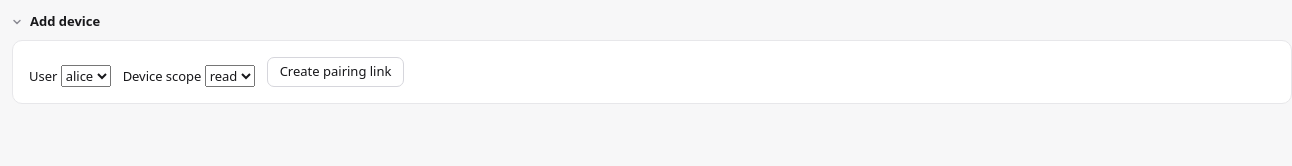
Test: offer creation is never automatically retried without an idempotency receipt
Click the button "Create pairing link".
click(336, 72)  # box [267,56,404,86]
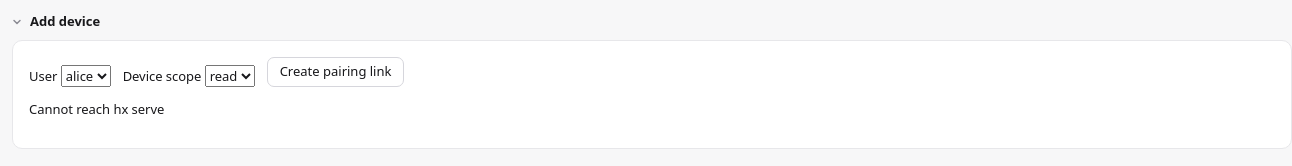
Now the message "Cannot reach hx serve" is shown, box [29,100,164,118]
